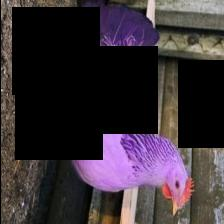purple: (14, 5, 192, 215)
